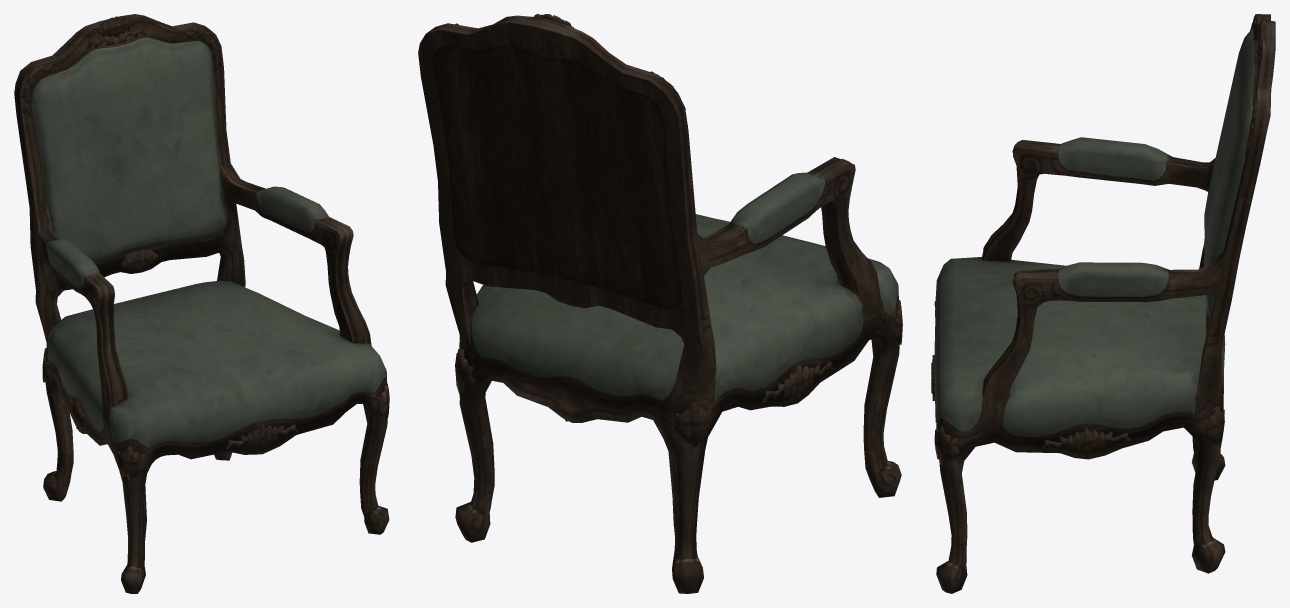
Rendered from GreenChair_01.glb.
The picture shows the model from 3 angles, left to right: view 1: azimuth 30°, elevation 25°; view 2: azimuth 150°, elevation 25°; view 3: azimuth 270°, elevation 25°; orthographic projection. The views are drawn at different scales.
Parts seen in each view (by area): view 1: GreenChair_01; view 2: GreenChair_01; view 3: GreenChair_01.
Boxes of the visible parts, x1,y1,x2,y2 form: GreenChair_01: (14,14,389,593); GreenChair_01: (418,14,902,593); GreenChair_01: (931,14,1275,593).
Size of the model in its own units: 0.6731 by 1.06 by 0.6644.
Materials: 1 (1 with a texture image).
